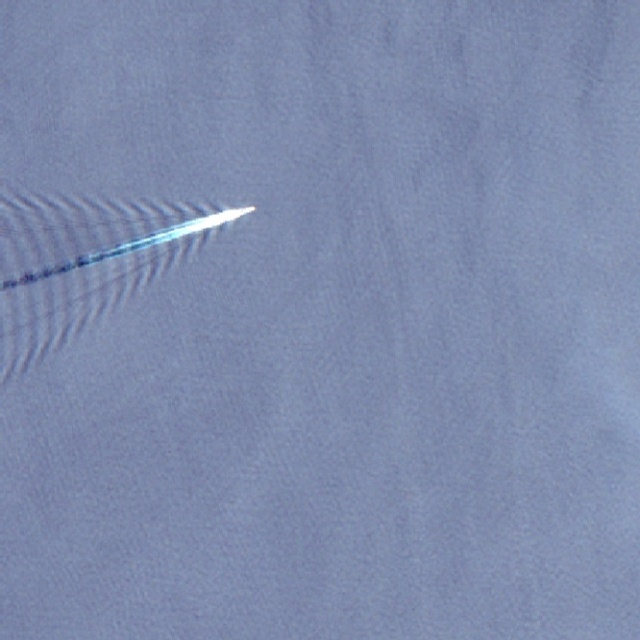wake: (24, 133, 289, 347)
